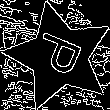P_SE: (28, 30, 90, 83)
